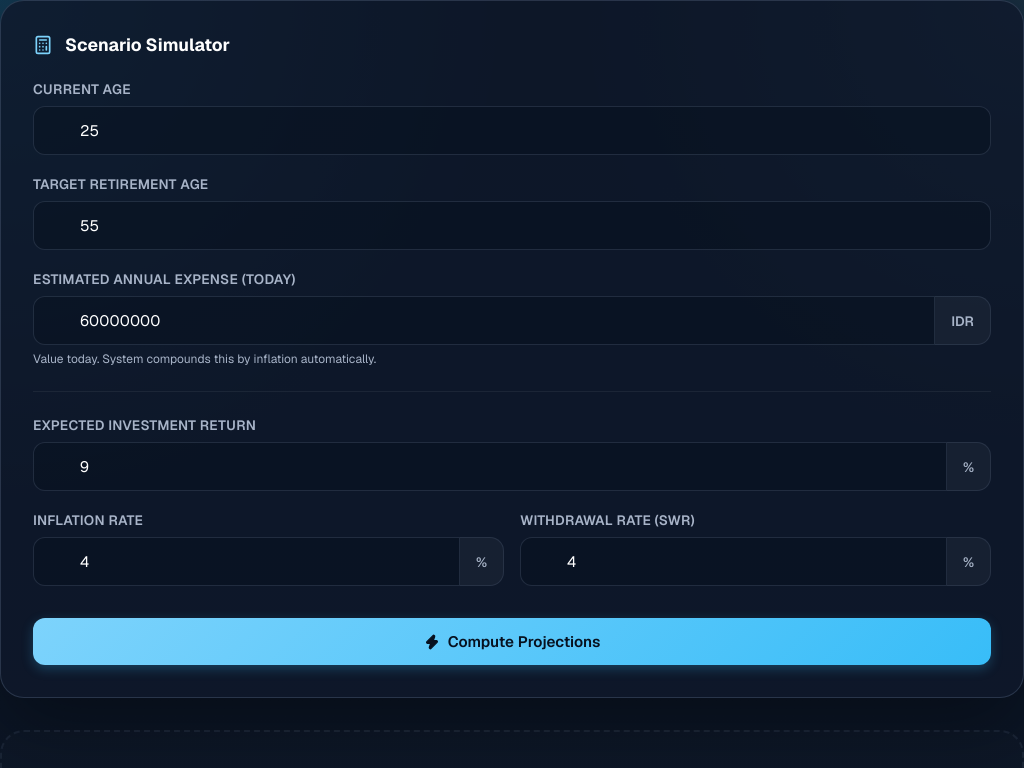
Test case: RetirementPlanner Calculation & Output Rendering › validates target retirement age must exceed current age
The width and height of the screenshot is (1024, 768).
Replace the text in the number field labelled "CURRENT AGE" with "35" at (512, 130), box [33, 106, 991, 155]
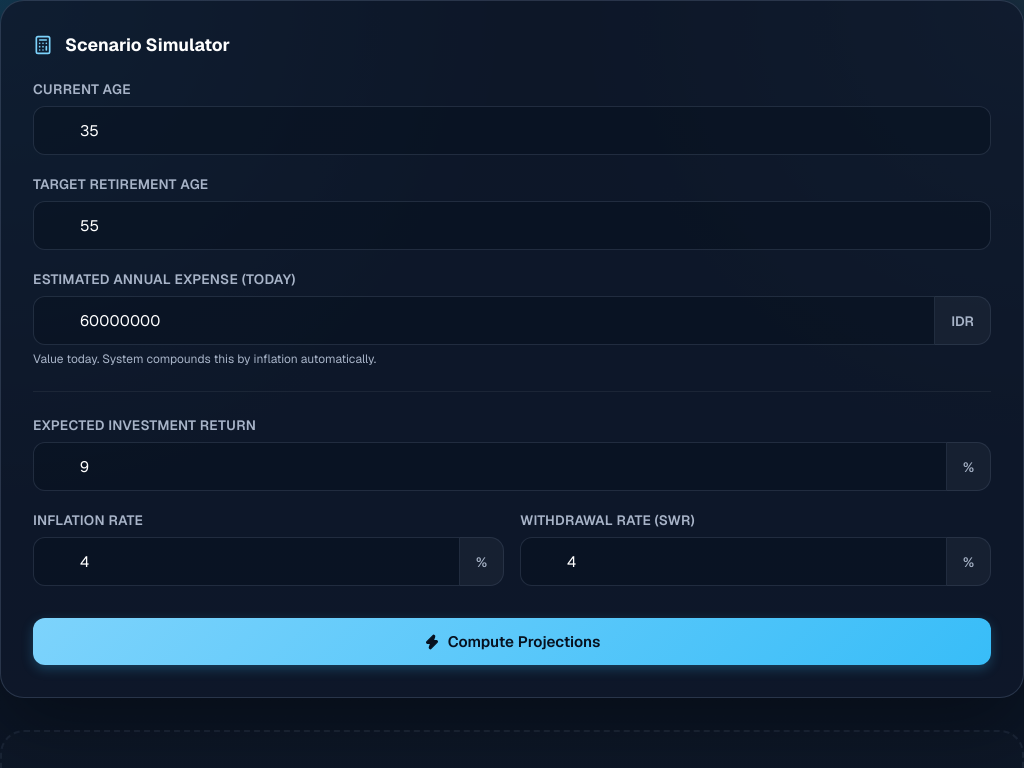
Replace the text in the number field labelled "TARGET RETIREMENT AGE" with "30" at (512, 226), box [33, 201, 991, 250]
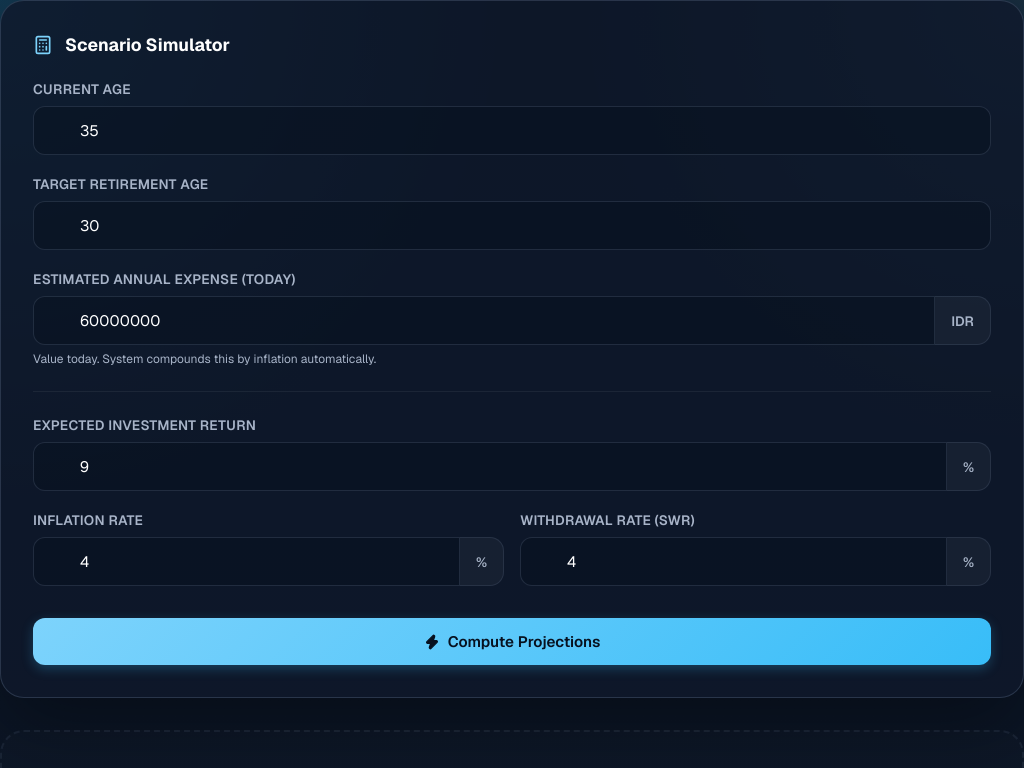
Submit the form labelled "CURRENT AGE"
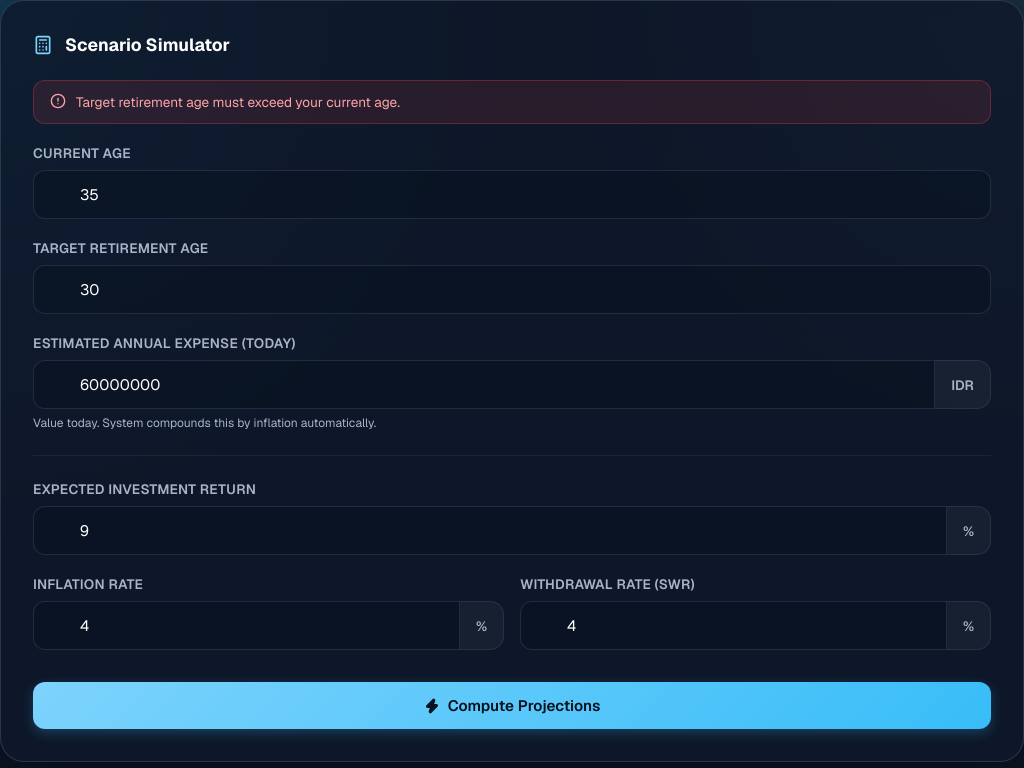
Expected: the text "Target retirement age must exceed your current age." is shown, [76, 93, 400, 111]
